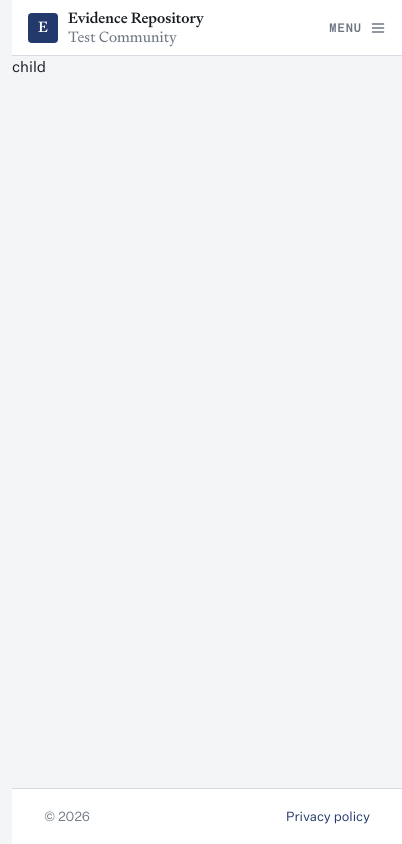
Test: AppShell narrow-screen menu › the menu button opens the menu, and an outside click closes it
This screenshot has width=402, height=844.
Click the button "Menu": (358, 28) [329,10,386,44]
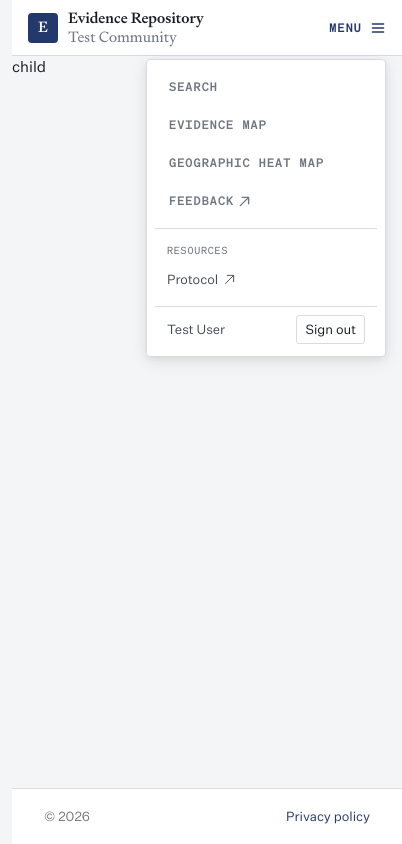
Check: the button "Menu" is expanded, box [329,10,386,44]
Click the text "child": (29, 66) [12,58,46,75]
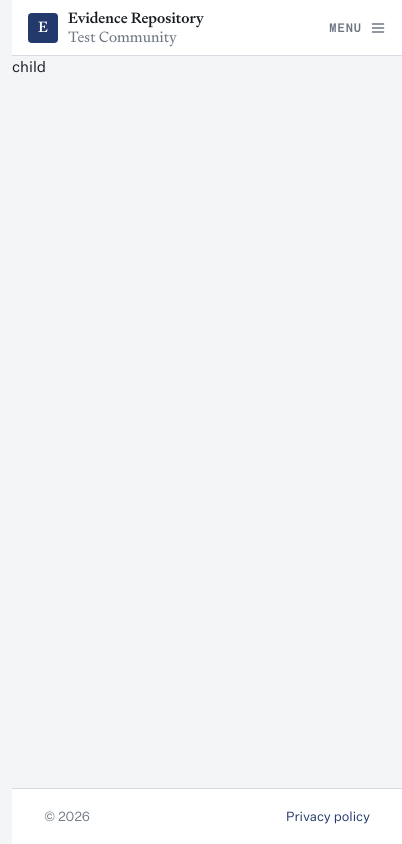
Check: the button "Menu" is collapsed, box [329,10,386,44]
